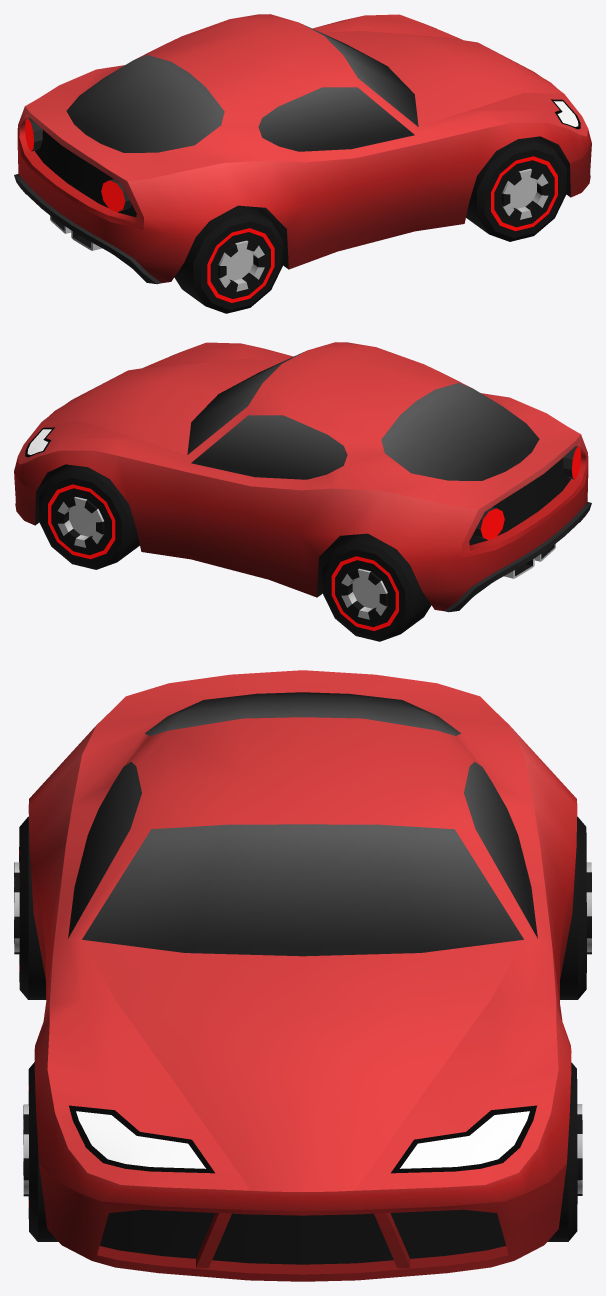
Rendered from Car_253.glb.
3 views of the same model, one above another, from view 1: azimuth 30°, elevation 25°; view 2: azimuth 150°, elevation 25°; view 3: azimuth 270°, elevation 25° (orthographic). The views are drawn at different scales.
Parts seen in each view (by area): view 1: Car_253, wheel_3_Car_253_Wheel_2R, wheel_1_Car_253_Wheel_1R; view 2: Car_253, wheel_2_Car_253_Wheel_2L, wheel_0_Car_253_Wheel_1L; view 3: Car_253, wheel_3_Car_253_Wheel_2R, wheel_2_Car_253_Wheel_2L, wheel_1_Car_253_Wheel_1R, wheel_0_Car_253_Wheel_1L.
Boxes of the visible parts, x1,y1,x2,y2 form: Car_253: (14, 14, 591, 284); wheel_3_Car_253_Wheel_2R: (174, 205, 283, 313); wheel_1_Car_253_Wheel_1R: (466, 136, 566, 241); Car_253: (14, 342, 591, 612); wheel_2_Car_253_Wheel_2L: (322, 533, 431, 641); wheel_0_Car_253_Wheel_1L: (39, 464, 139, 569); Car_253: (28, 670, 577, 1281); wheel_3_Car_253_Wheel_2R: (14, 816, 45, 999); wheel_2_Car_253_Wheel_2L: (560, 816, 591, 999); wheel_1_Car_253_Wheel_1R: (23, 1062, 58, 1241); wheel_0_Car_253_Wheel_1L: (547, 1062, 582, 1241).
Bounding box in the file's own units: 3.5 × 1.23 × 2.03.
2 materials, 2 textured.
